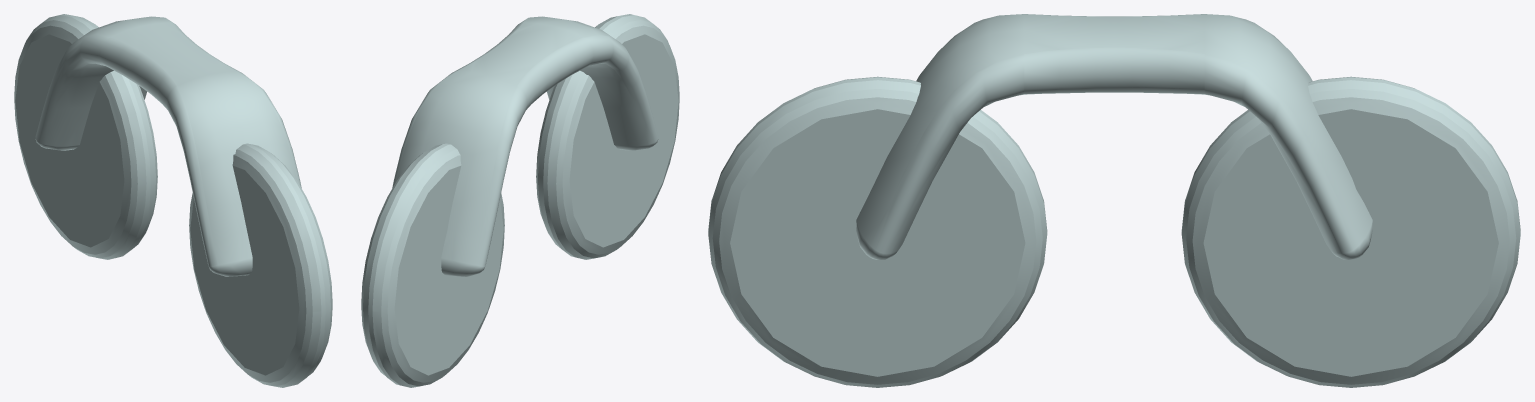
The model's file is bicycle.glb.
The picture shows the model from 3 angles, left to right: view 1: azimuth 30°, elevation 25°; view 2: azimuth 150°, elevation 25°; view 3: azimuth 270°, elevation 25°; orthographic projection. The views are drawn at different scales.
Visible parts, largest first — view 1: bicycle; view 2: bicycle; view 3: bicycle.
Boxes of the visible parts, left/top/right/bottom form: bicycle: left=14, top=14, right=332, bottom=387; bicycle: left=361, top=14, right=679, bottom=387; bicycle: left=708, top=14, right=1520, bottom=387.
Bounding box in the file's own units: 0.4679 × 1.14 × 2.36.
